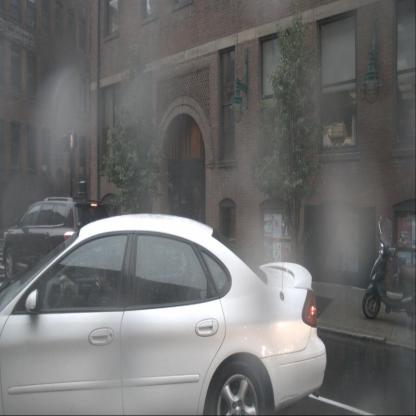vehicle-car: (0, 212, 328, 416), (2, 194, 110, 284)
vehicle-motorcycle: (362, 213, 416, 322)
